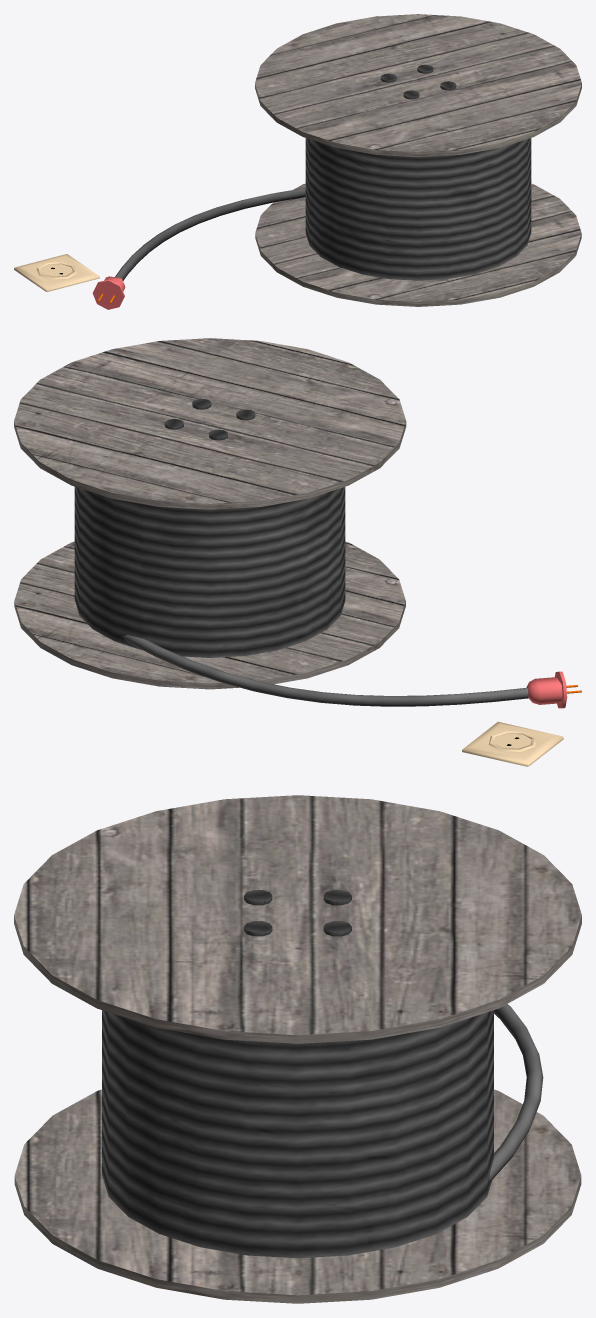
File: Coil.fbx
3 views of the same model, one above another, from view 1: azimuth 30°, elevation 25°; view 2: azimuth 150°, elevation 25°; view 3: azimuth 270°, elevation 25° (orthographic). The views are drawn at different scales.
Visible parts, largest first — view 1: Cable-drum; view 2: Cable-drum; view 3: Cable-drum.
Part boxes in pixels (x1,y1,x2,y2): Cable-drum: [14, 14, 581, 309]; Cable-drum: [14, 338, 581, 766]; Cable-drum: [14, 795, 581, 1303].
Bounding box in the file's own units: 117 × 37.8 × 69.28.
Materials: 1 (1 with a texture image).
